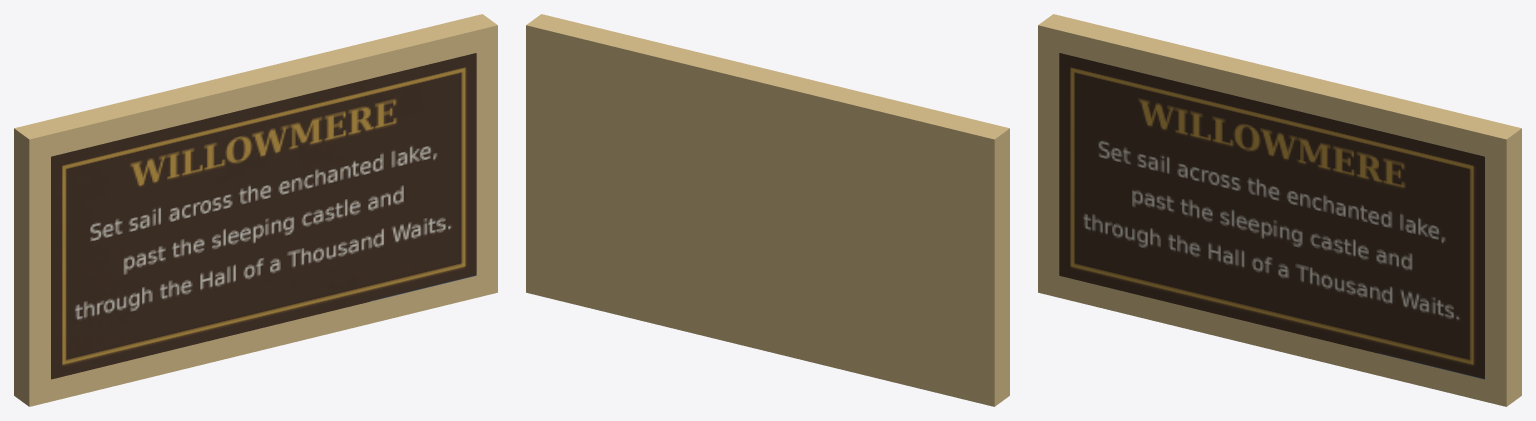
The model's file is SM_QUE_Plaque.fbx.
3 views of the same model, side by side, from view 1: azimuth 30°, elevation 25°; view 2: azimuth 150°, elevation 25°; view 3: azimuth 330°, elevation 25° (orthographic).
Parts seen in each view (by area): view 1: SM_QUE_Plaque; view 2: SM_QUE_Plaque; view 3: SM_QUE_Plaque.
Boxes of the visible parts, x1=… form: SM_QUE_Plaque: x1=14, y1=14, x2=497, y2=406; SM_QUE_Plaque: x1=526, y1=14, x2=1009, y2=406; SM_QUE_Plaque: x1=1038, y1=14, x2=1521, y2=406.
Bounding box in the file's own units: 0.88 × 0.48 × 0.0505.
